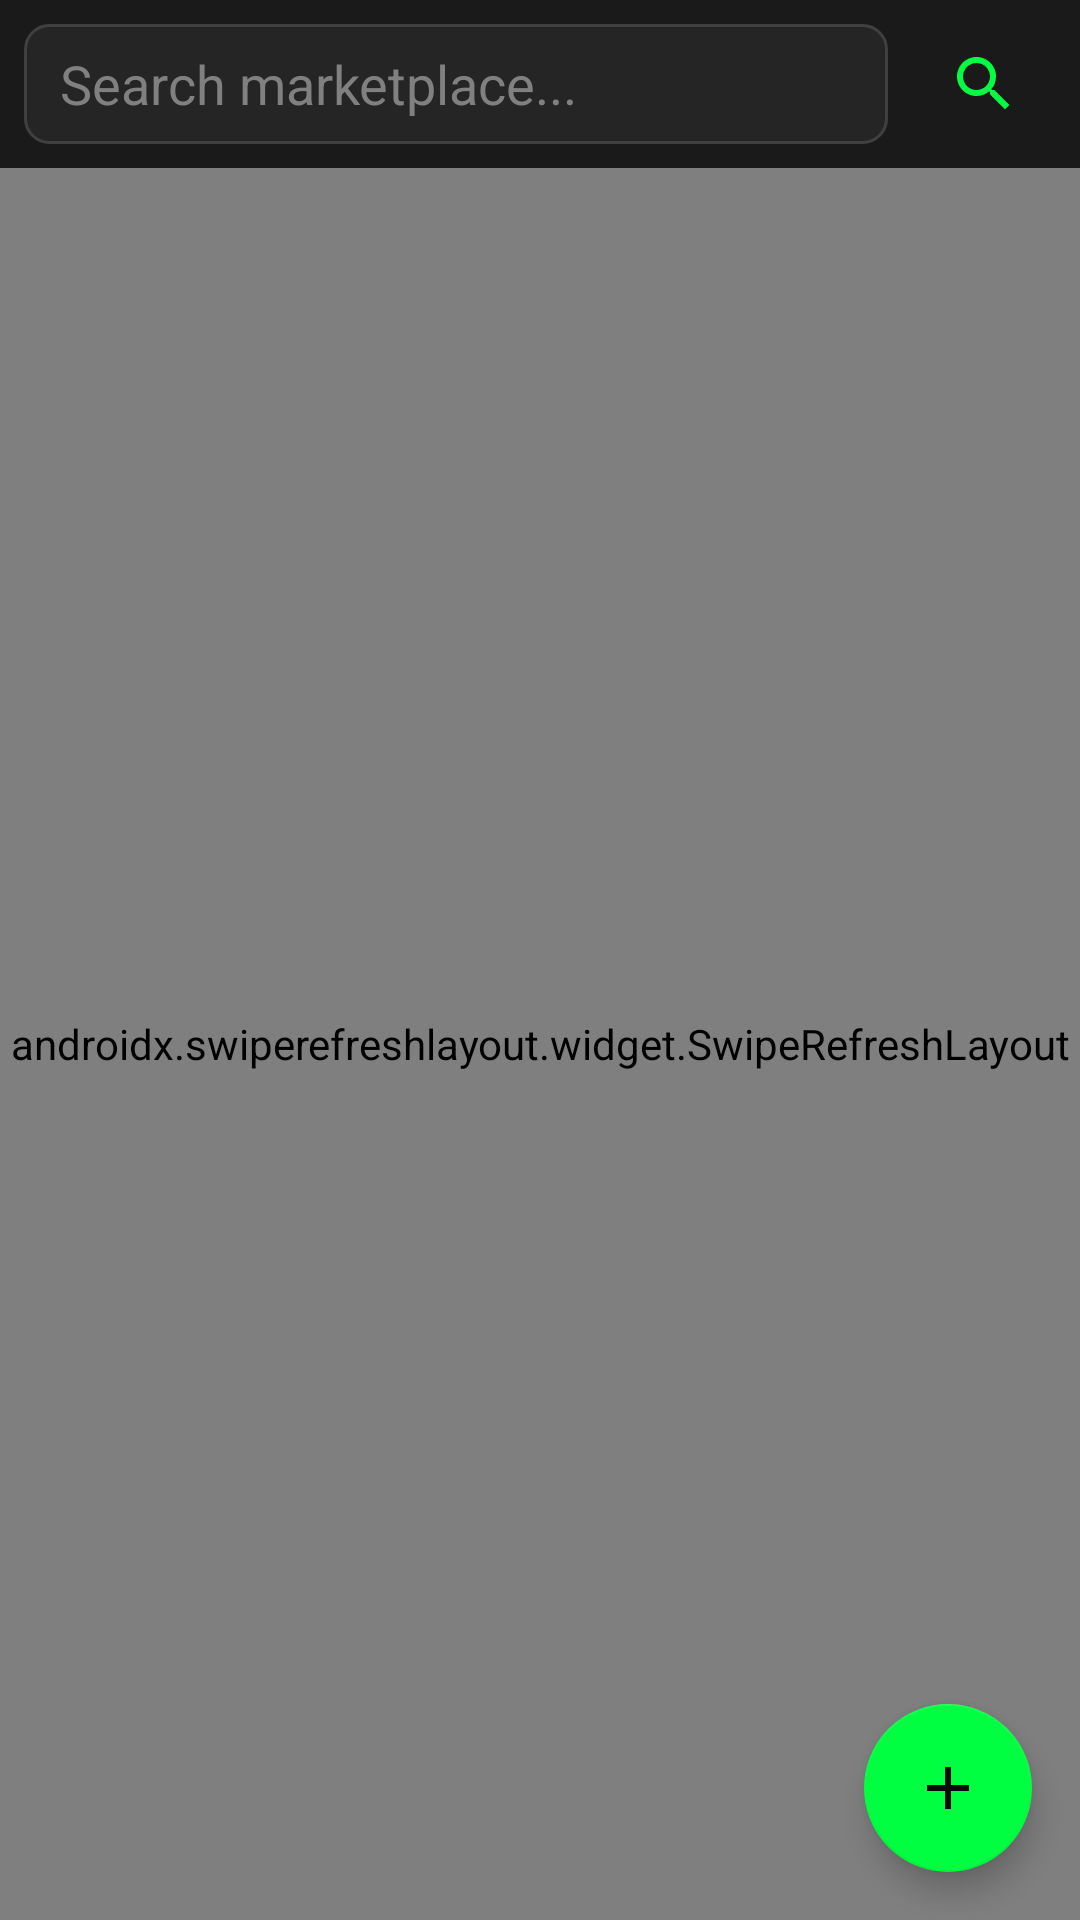

Screen size 1080px x 1920px. Icon name, then its box in pixels as (x1, y1, x2, y2):
Create listing: (864, 1704, 1032, 1872)
